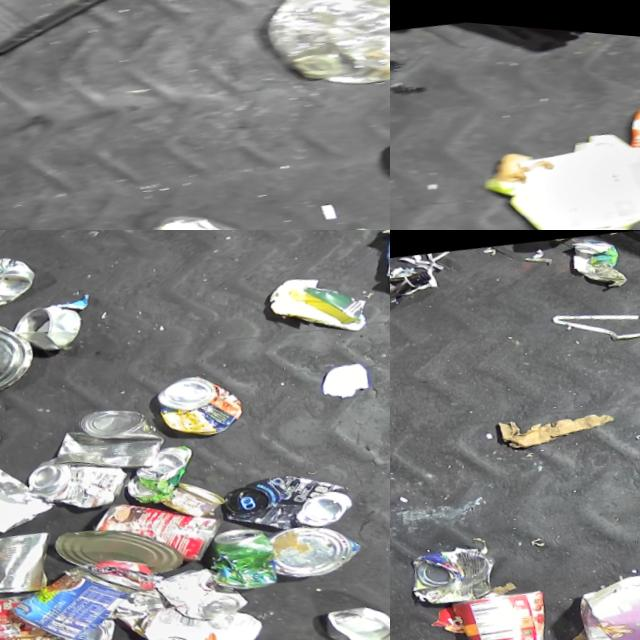can: (91, 482, 232, 579), (5, 549, 148, 640), (222, 454, 361, 542), (47, 395, 172, 485), (55, 510, 189, 591), (26, 444, 136, 521), (153, 362, 250, 443), (407, 535, 507, 613), (155, 553, 256, 627), (272, 509, 370, 582), (452, 579, 559, 640), (207, 515, 286, 591), (122, 437, 204, 507), (0, 524, 64, 605), (8, 298, 85, 360), (0, 312, 43, 411), (161, 470, 231, 522), (0, 583, 60, 640), (328, 589, 390, 640), (0, 245, 40, 320), (56, 612, 124, 640), (64, 627, 171, 640), (0, 411, 13, 484)
non_white_jug: (570, 551, 640, 640)
plastic_bottle: (254, 0, 390, 101), (131, 185, 289, 230)
